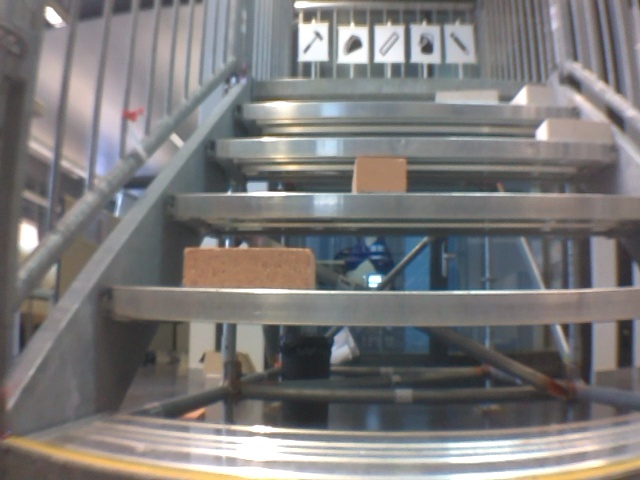brick: (185, 248, 314, 289), (351, 156, 405, 194), (536, 118, 610, 142), (512, 86, 557, 105), (437, 90, 498, 104)
bucket: (416, 31, 438, 59)
edge: (102, 286, 640, 326), (166, 194, 640, 218), (210, 139, 620, 160), (233, 103, 577, 120), (253, 80, 539, 90)
hammer: (298, 28, 326, 58)
pencil: (448, 31, 470, 58)
ruler: (377, 30, 401, 60)
taco: (341, 33, 363, 58)
